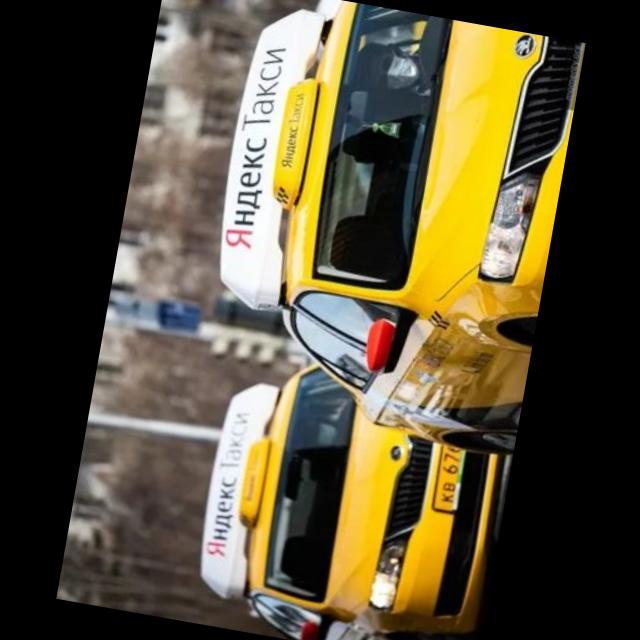taxi: (185, 1, 586, 460), (183, 344, 523, 640)
